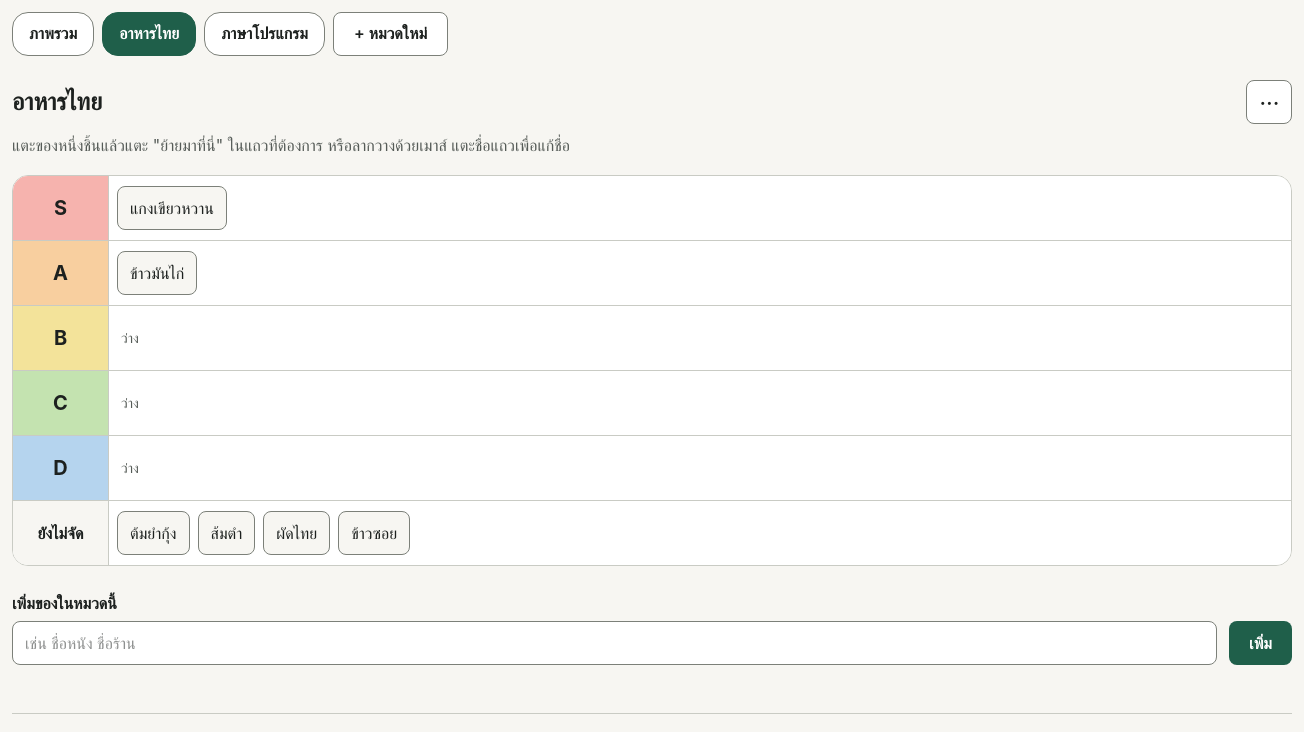
Test: TierBoard › adds items from the form and ignores blanks
Submit the form "เพิ่มของในหมวดนี้", box [12,590,1292,665]
In the field labelled "เพิ่มของในหมวดนี้": (615, 643) [12,621,1217,665], type "ผัดกะเพรา"
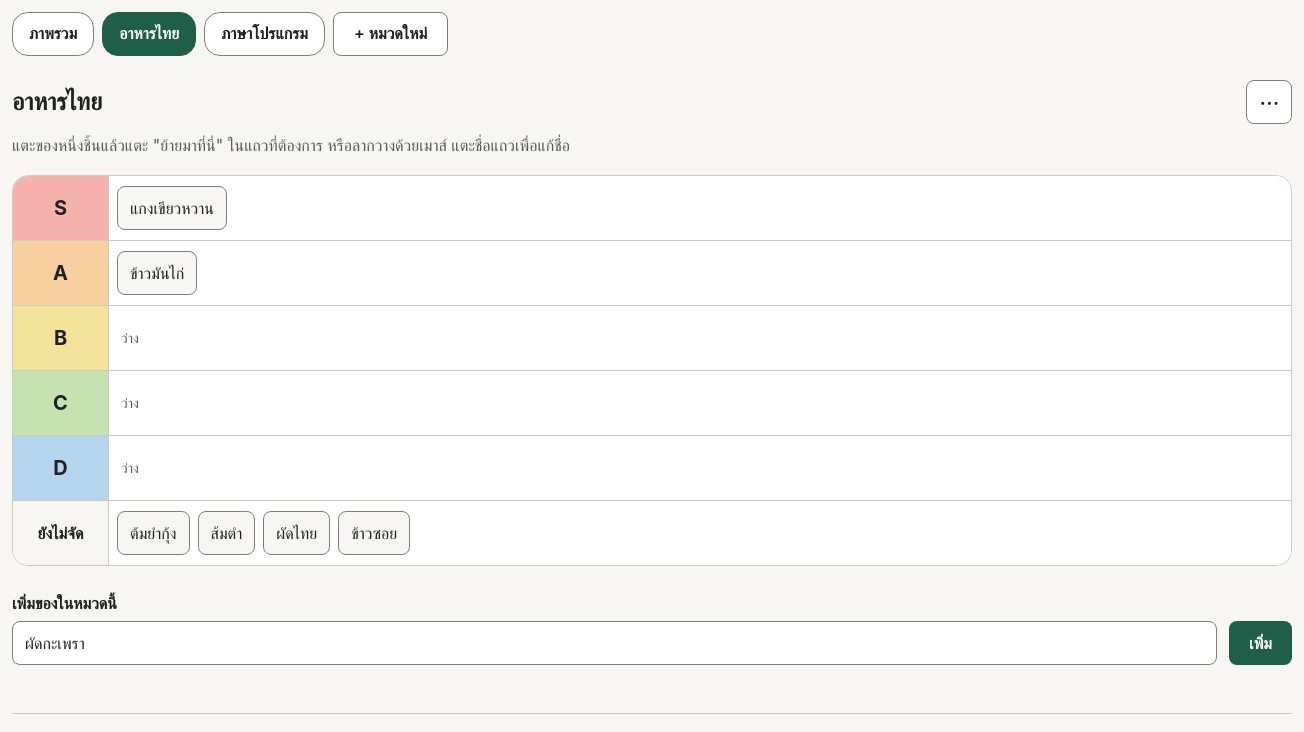
Submit the form "เพิ่มของในหมวดนี้", box [12,590,1292,665]
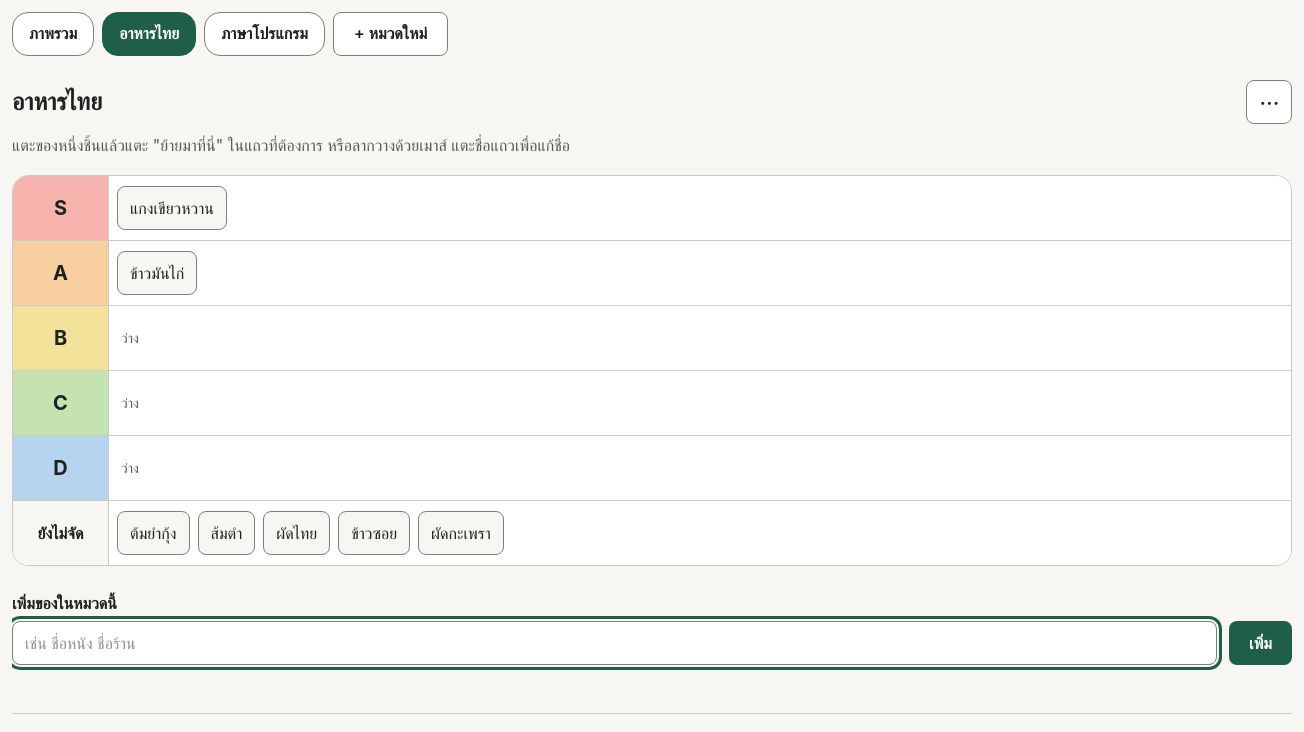
Result: the button "ผัดกะเพรา" is shown at [418,511,504,555]
Result: the field labelled "เพิ่มของในหมวดนี้" is empty at [12,621,1217,665]
